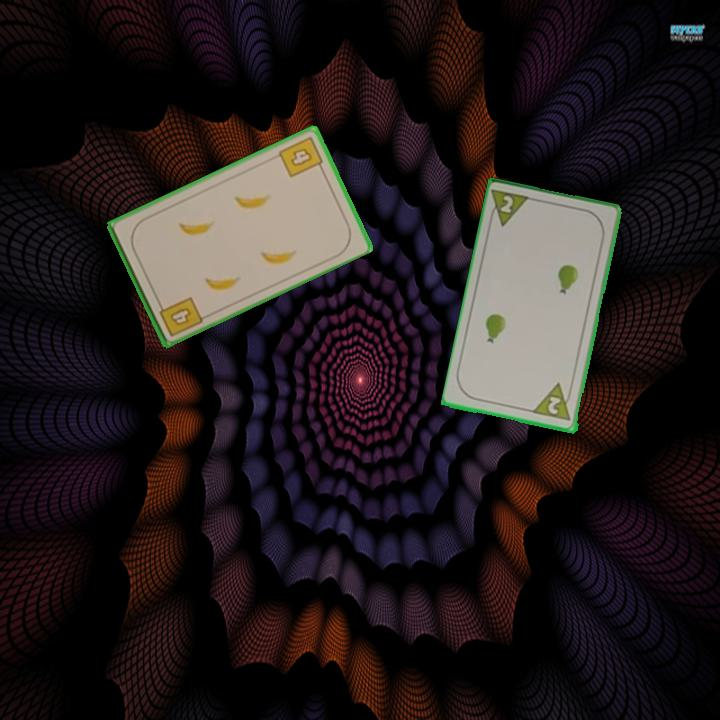2p: (486, 186, 534, 230), (531, 380, 576, 424)
4b: (275, 132, 327, 180), (154, 293, 205, 339)
